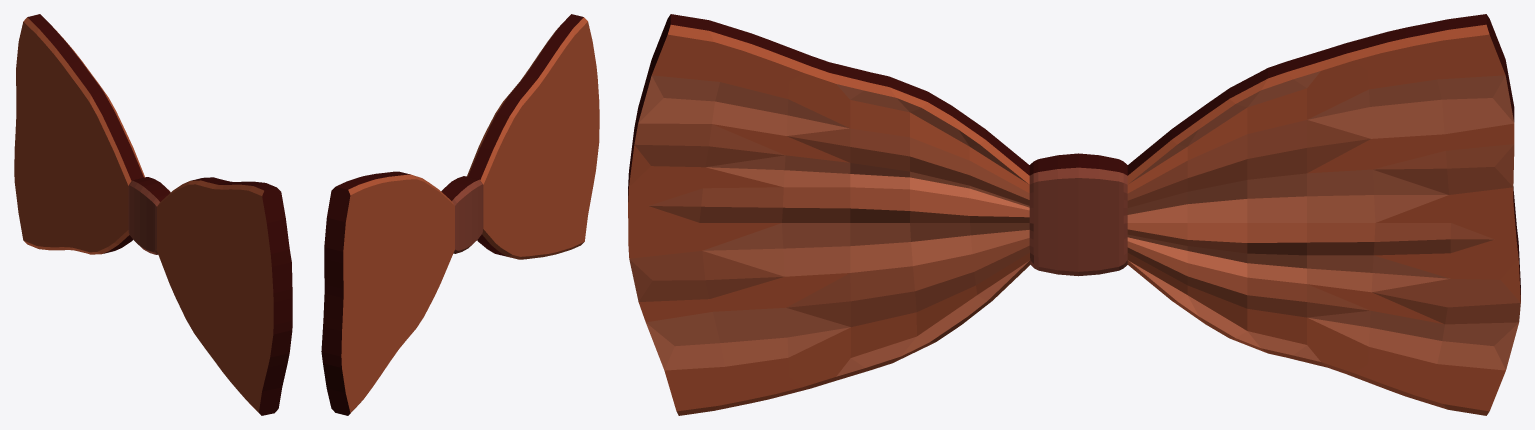
The model's file is Fliege.fbx.
3 renders of one model, left to right at view 1: azimuth 30°, elevation 25°; view 2: azimuth 150°, elevation 25°; view 3: azimuth 270°, elevation 25°, orthographic. The views are drawn at different scales.
Parts seen in each view (by area): view 1: Fliege; view 2: Fliege; view 3: Fliege.
Part boxes in pixels (x1=…): Fliege: x1=14, y1=14, x2=292, y2=415; Fliege: x1=321, y1=14, x2=599, y2=415; Fliege: x1=628, y1=14, x2=1520, y2=415.
Bounding box in the file's own units: 77.81 × 601 × 1243.
